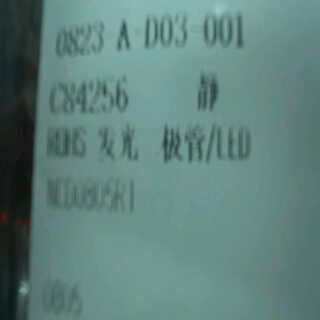LED: (90, 120, 257, 166)
